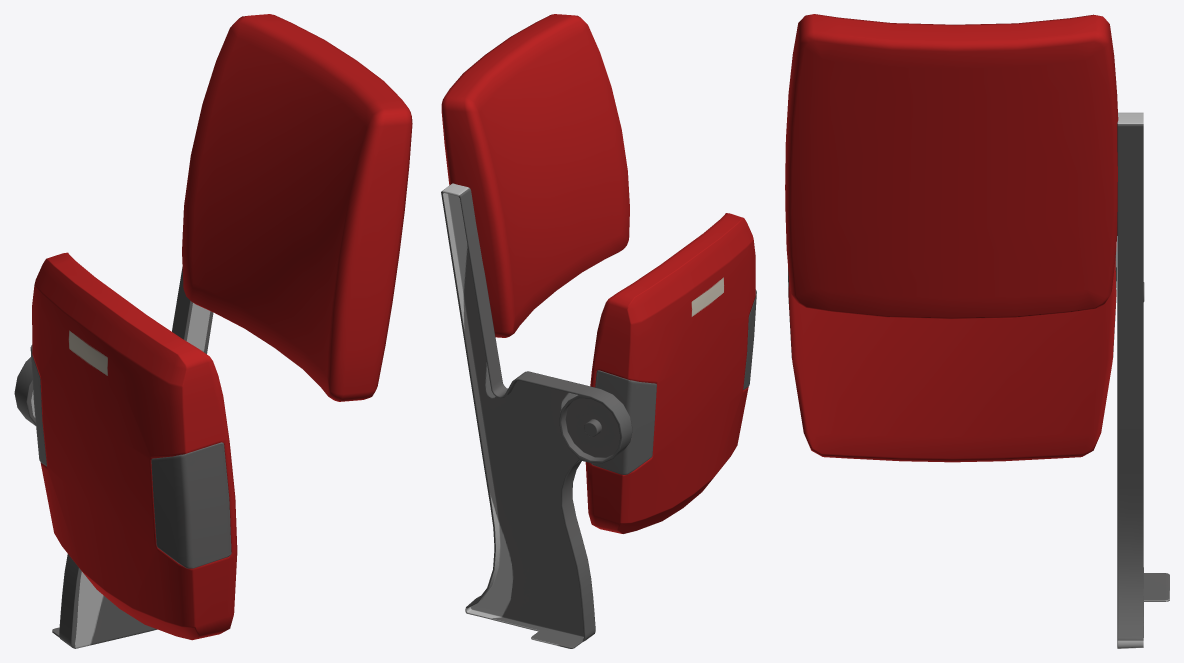
File: SM_073_Chair_5_R.fbx
The picture shows the model from 3 angles, left to right: view 1: azimuth 30°, elevation 25°; view 2: azimuth 150°, elevation 25°; view 3: azimuth 270°, elevation 25°; orthographic projection. The views are drawn at different scales.
Visible parts, largest first — view 1: SM_073_Chair_5_R; view 2: SM_073_Chair_5_R; view 3: SM_073_Chair_5_R.
Boxes of the visible parts, x1,y1,x2,y2 form: SM_073_Chair_5_R: (14,14,412,648); SM_073_Chair_5_R: (441,14,756,648); SM_073_Chair_5_R: (785,14,1169,648).
Bounding box in the file's own units: 46.88 × 53.51 × 99.41.
Materials: 1 (1 with a texture image).
